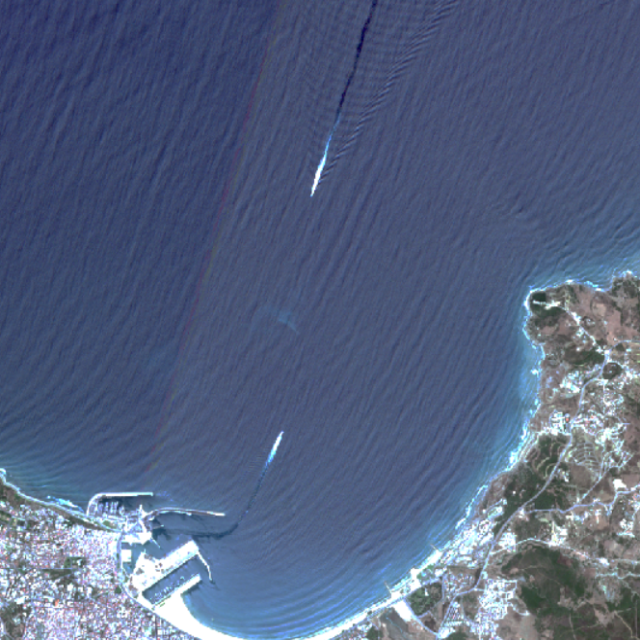wake: (246, 7, 421, 230)
